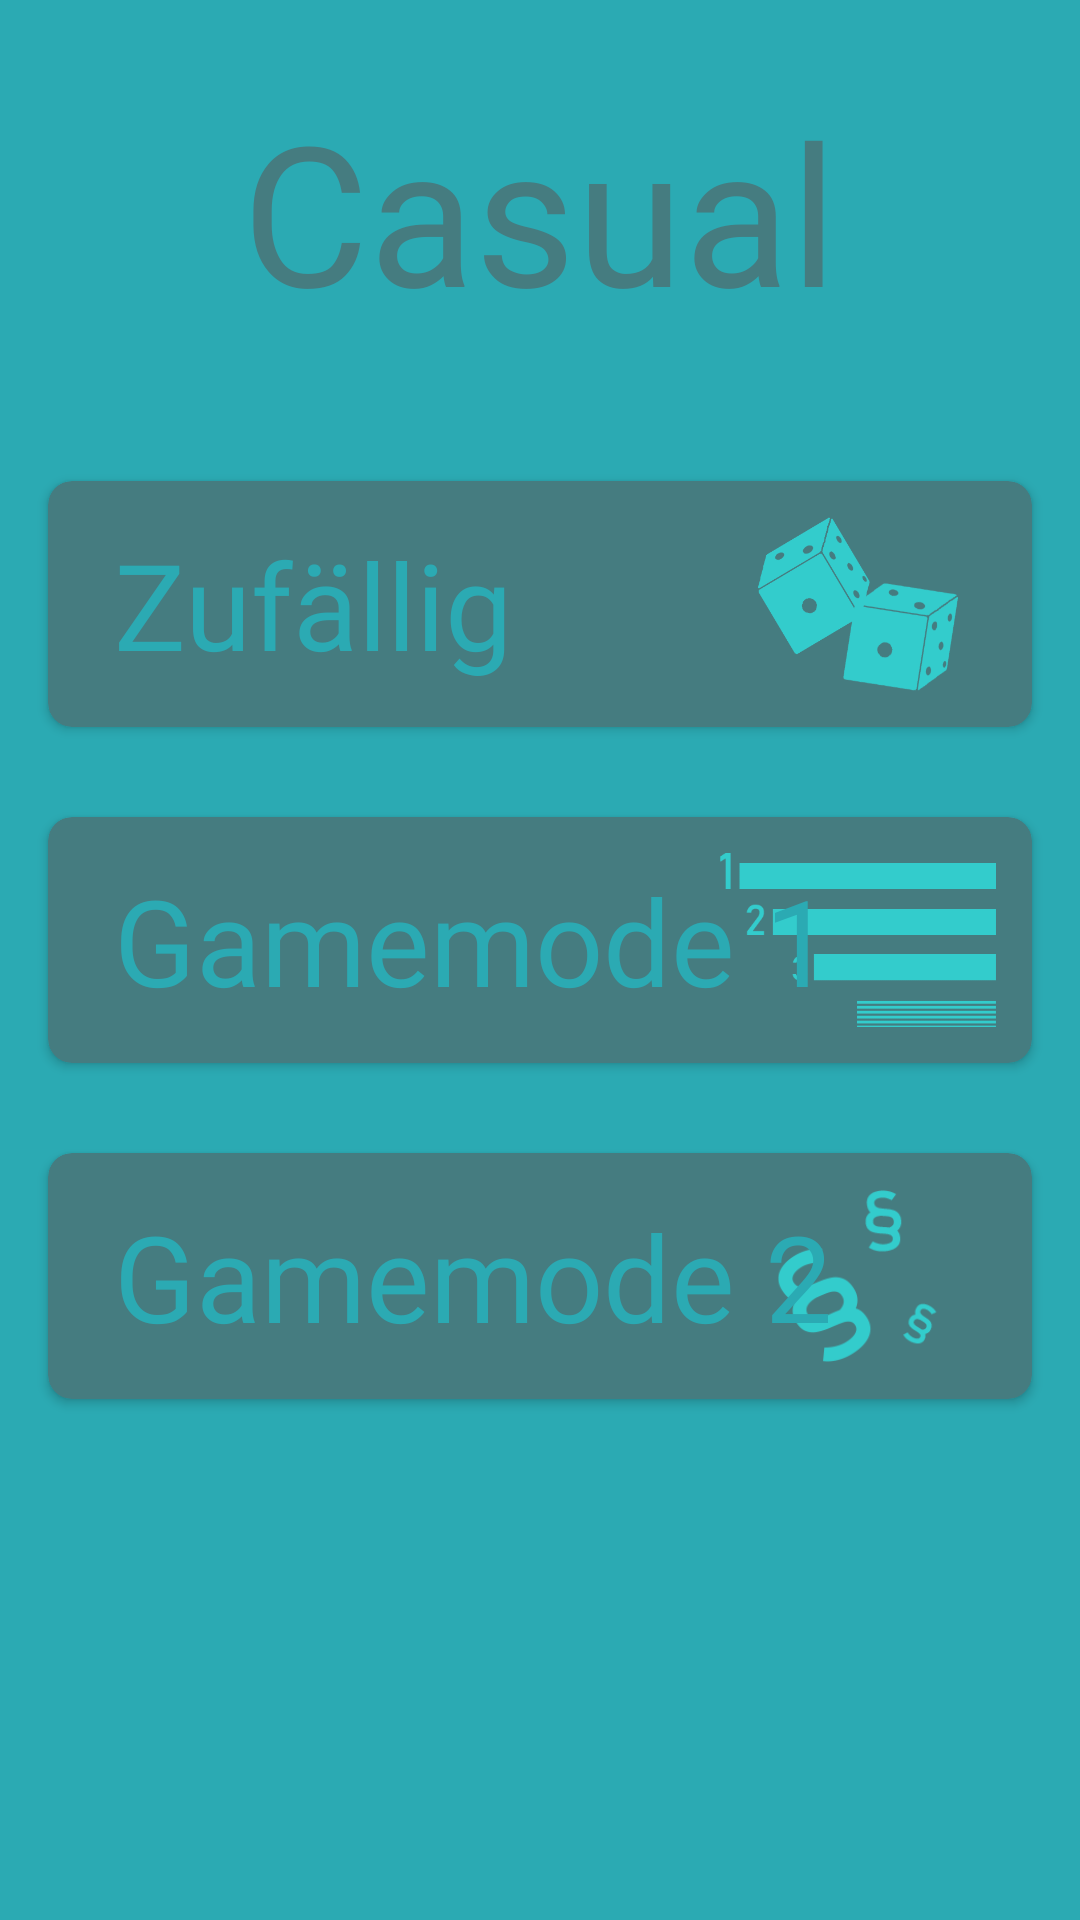

Icon bounding boxes for this 1080*1920 phone screenshot, format (x1, y1, x2, y2):
random: (758, 518, 958, 690)
rangliste: (720, 853, 996, 1027)
regeln: (771, 1190, 936, 1362)
